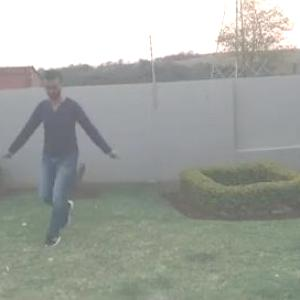land: (1, 66, 113, 230)
